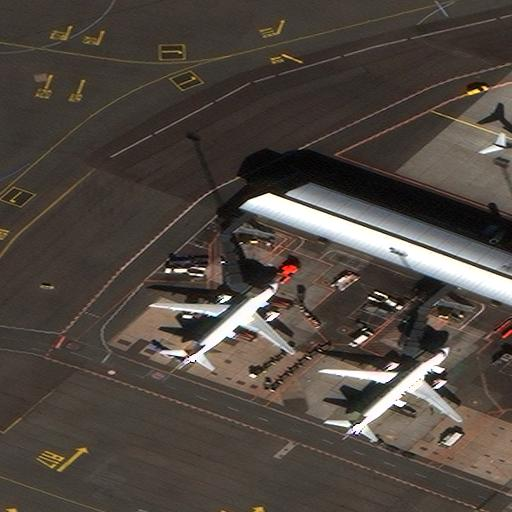Medium Civil Transport: (323, 346, 462, 433), (154, 282, 294, 363)
